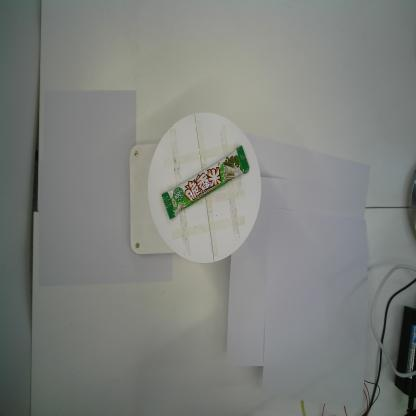Chocolate: (161, 144, 251, 222)
